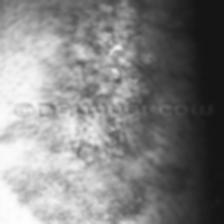Unclassified: (60, 0, 153, 65), (62, 120, 131, 168), (86, 72, 148, 100)
